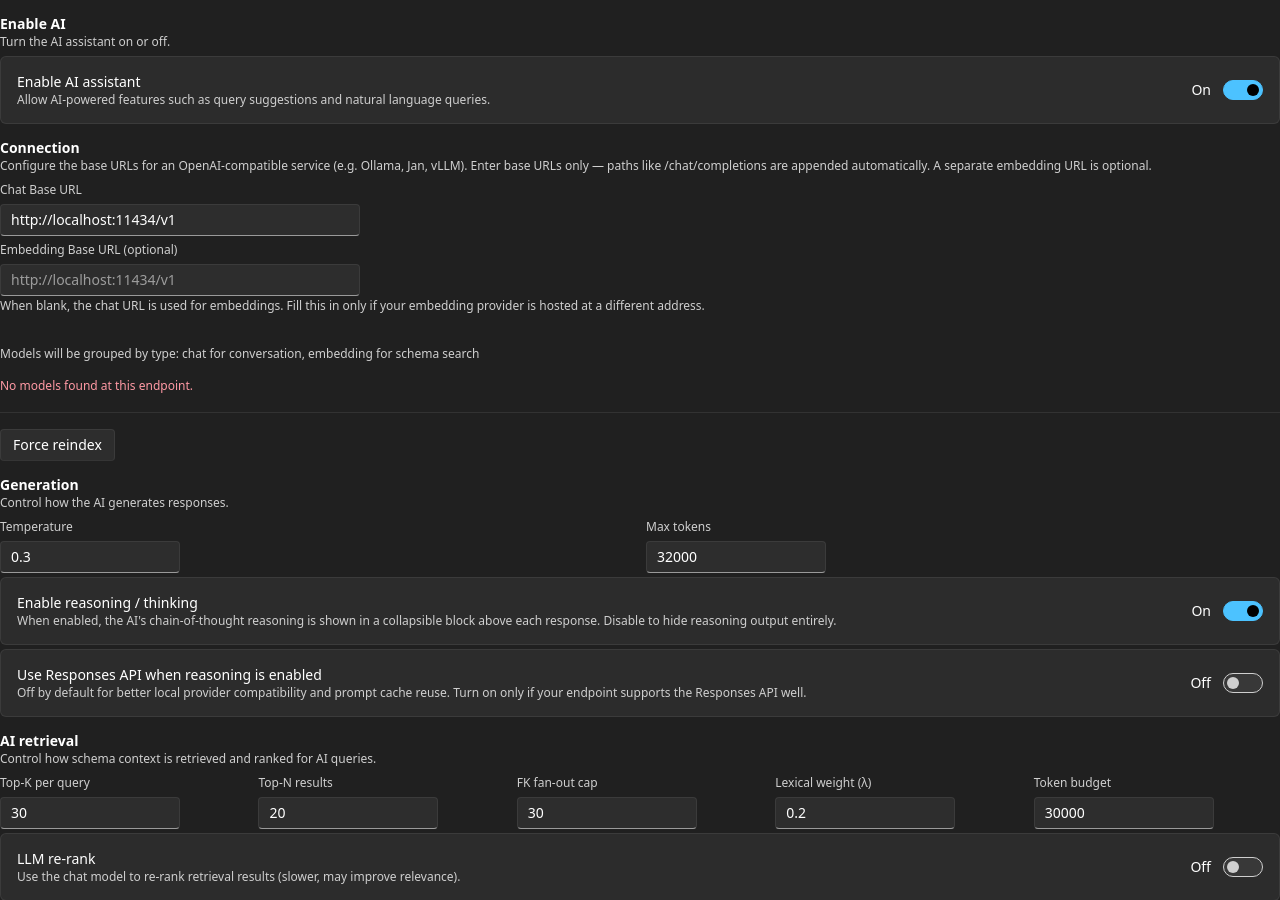
Test: AiSettings - Force Reindex › clicking Force Reindex button opens confirm dialog
Click the button with test id "ai-force-reindex-btn". click: (57, 445)
box: [0, 429, 115, 461]
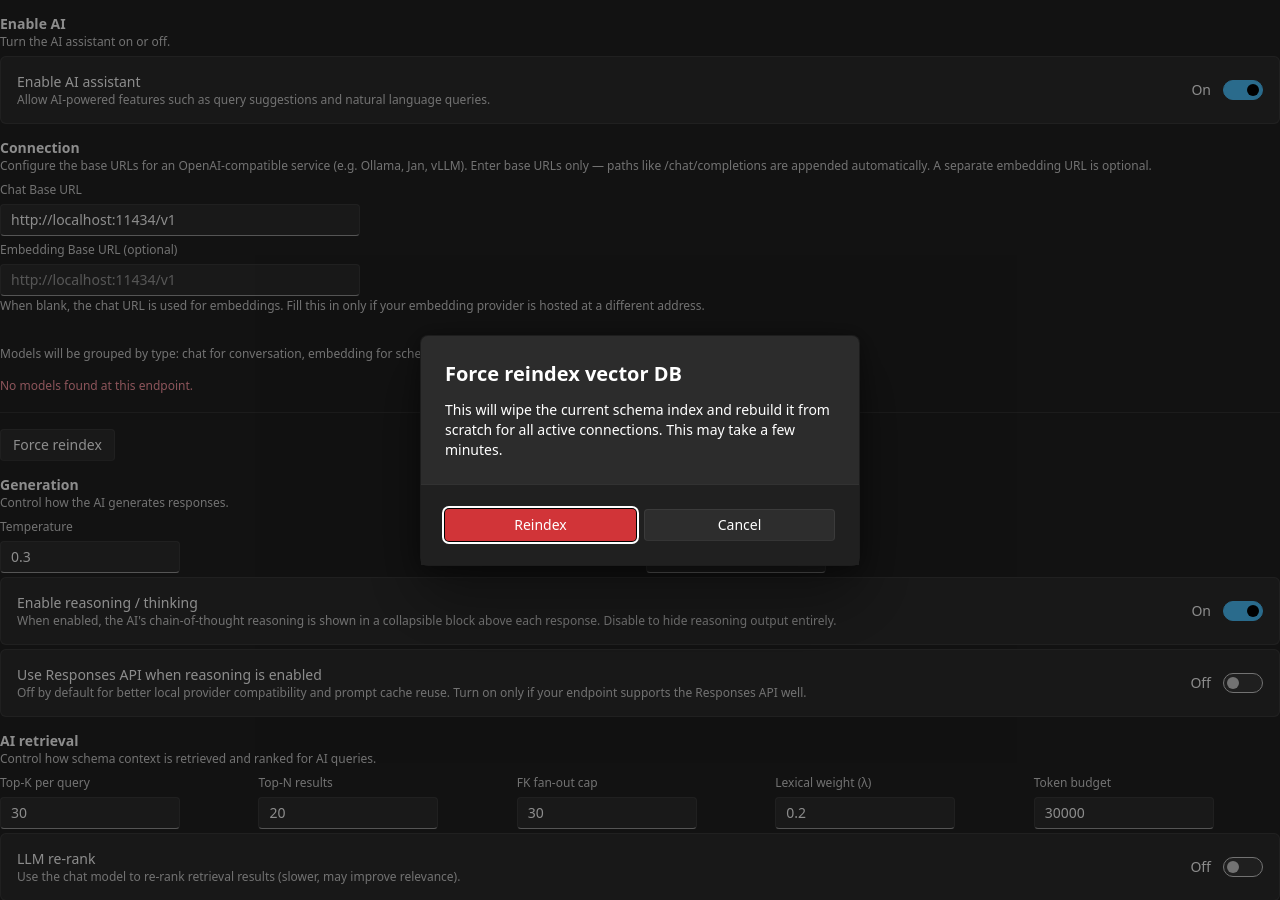
Now the dialog with test id "confirm-dialog" is shown
Now the heading "Force reindex vector DB" is shown, box [445, 360, 682, 386]
